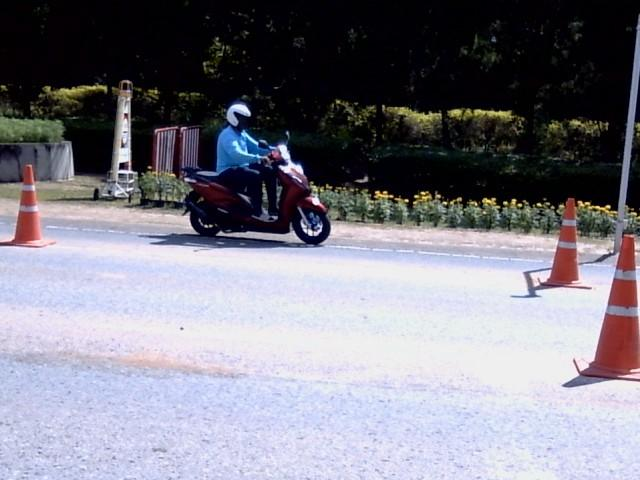helmet: (227, 100, 251, 131)
motor: (183, 143, 329, 244)
person: (216, 101, 277, 220)
